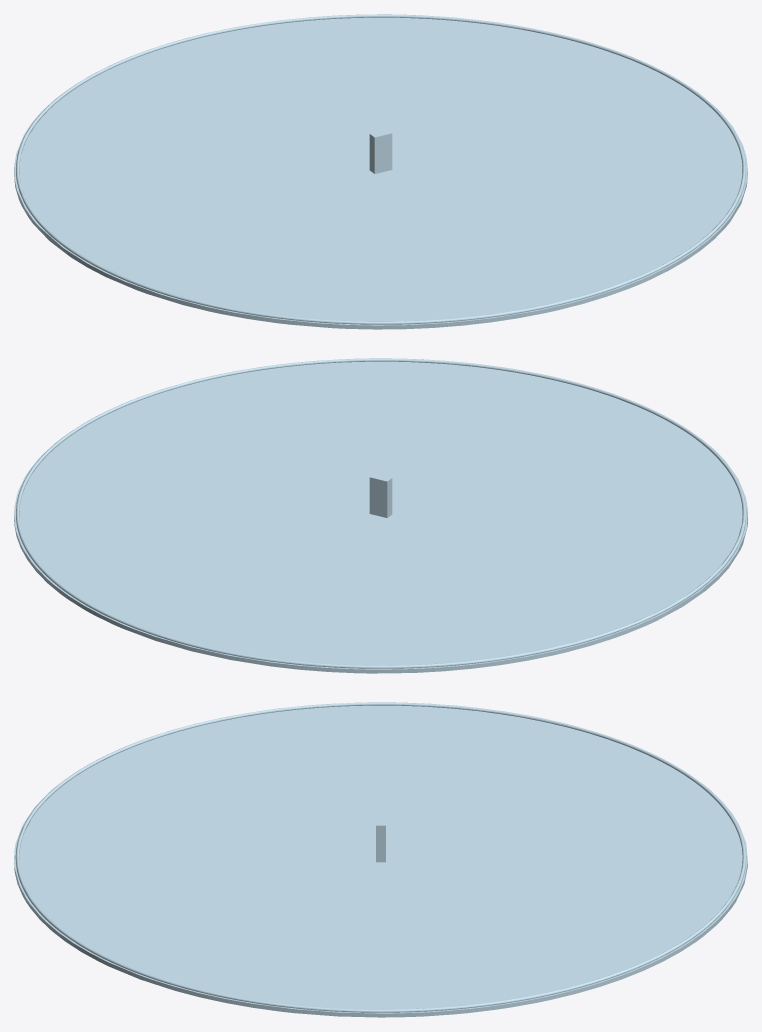
Rendered from solar_array_lod1.glb.
3 views of the same model, one above another, from view 1: azimuth 30°, elevation 25°; view 2: azimuth 150°, elevation 25°; view 3: azimuth 270°, elevation 25° (orthographic).
Visible parts, largest first — view 1: Solar disc, Solar rim, Roof console; view 2: Solar disc, Solar rim, Roof console; view 3: Solar disc, Solar rim.
Part boxes in pixels (<box>): Solar disc: <box>14,17,747,329</box>; Solar rim: <box>16,14,745,324</box>; Roof console: <box>369,129,392,173</box>; Solar disc: <box>14,361,747,673</box>; Solar rim: <box>16,358,746,668</box>; Roof console: <box>369,473,392,517</box>; Solar disc: <box>14,705,747,1017</box>; Solar rim: <box>15,702,746,1012</box>.
Size of the model in its own units: 20 by 1.23 by 20.
